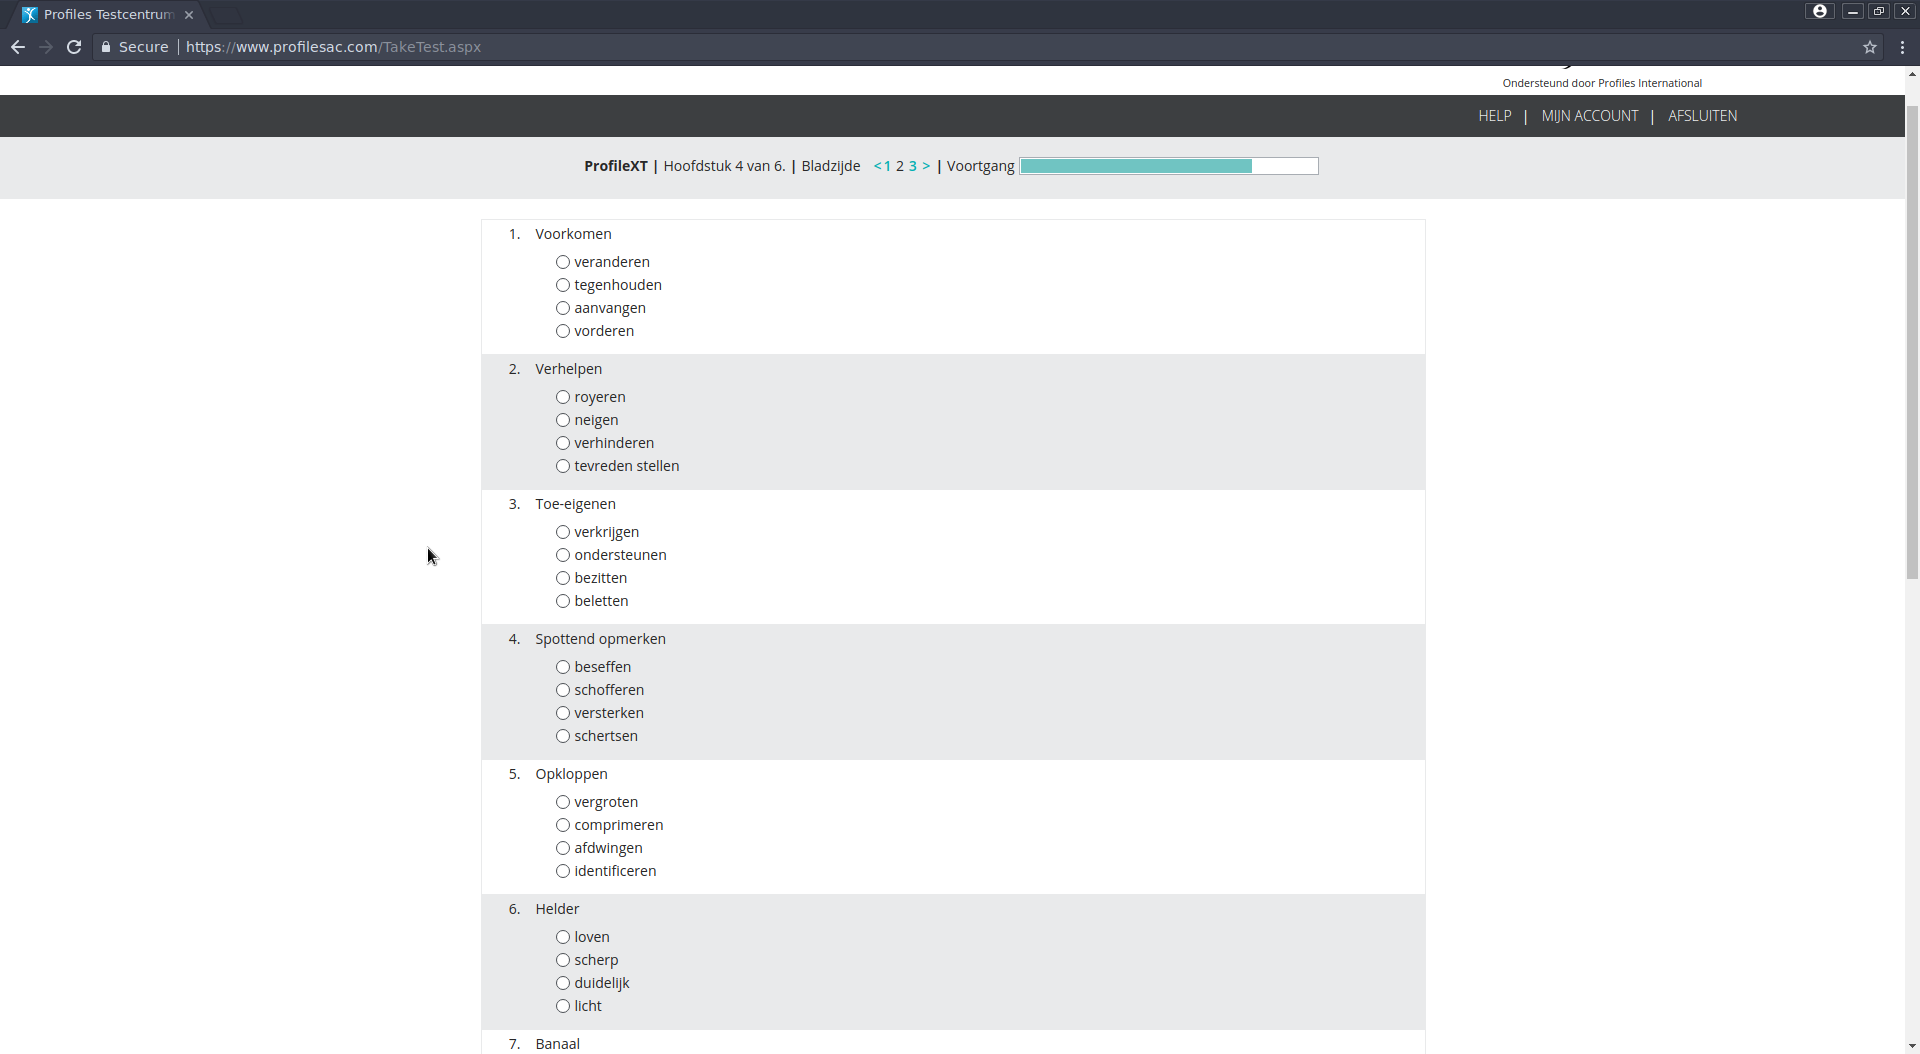person: (1180, 314, 1564, 768), (296, 191, 554, 687)
